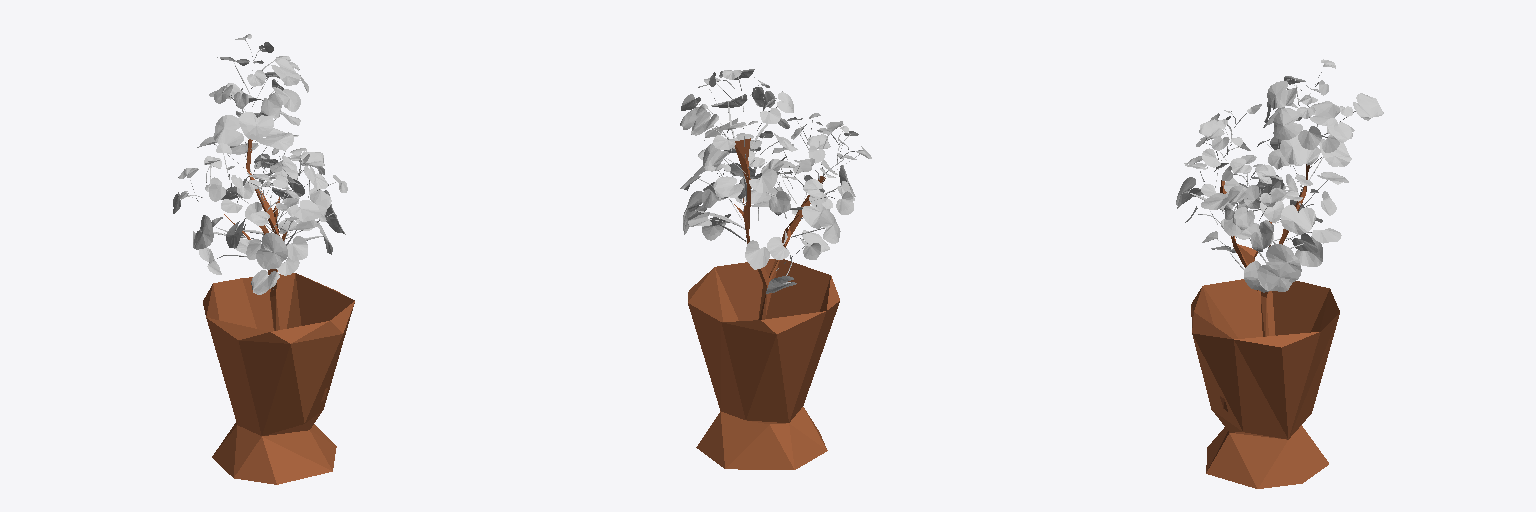
The picture shows the model from 3 angles: view 1: azimuth 30°, elevation 25°; view 2: azimuth 150°, elevation 25°; view 3: azimuth 270°, elevation 25°; orthographic projection.
Parts seen in each view (by area): view 1: potted_plant_01_pot, potted_plant_01_leaves, potted_plant_01_stem; view 2: potted_plant_01_pot, potted_plant_01_leaves, potted_plant_01_stem; view 3: potted_plant_01_pot, potted_plant_01_leaves, potted_plant_01_stem.
Boxes of the visible parts, x1=… form: potted_plant_01_pot: x1=203, y1=273, x2=354, y2=484; potted_plant_01_leaves: x1=173, y1=34, x2=347, y2=294; potted_plant_01_stem: x1=224, y1=139, x2=286, y2=330; potted_plant_01_pot: x1=688, y1=259, x2=839, y2=469; potted_plant_01_leaves: x1=680, y1=69, x2=871, y2=293; potted_plant_01_stem: x1=734, y1=138, x2=825, y2=319; potted_plant_01_pot: x1=1191, y1=279, x2=1339, y2=488; potted_plant_01_leaves: x1=1176, y1=59, x2=1383, y2=292; potted_plant_01_stem: x1=1220, y1=164, x2=1309, y2=336.
Size of the model in its own units: 0.5814 by 1.33 by 0.6258.
Materials: 2 (1 with a texture image).